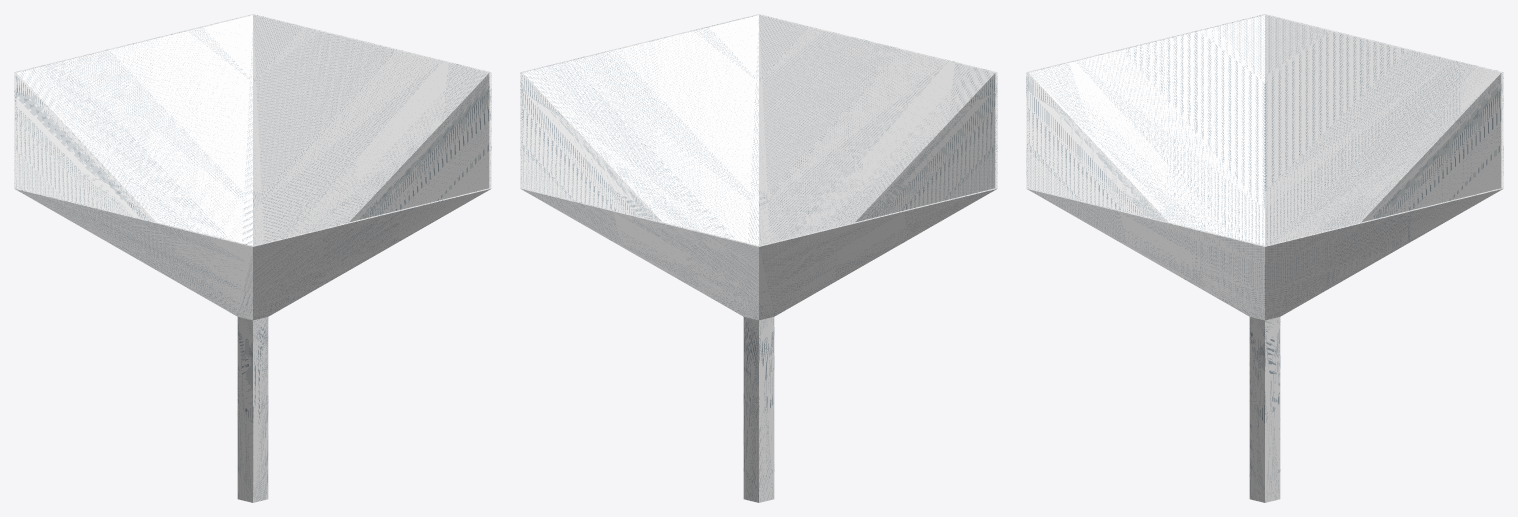
The model's file is Funnel.obj.
3 views of the same model, side by side, from view 1: azimuth 30°, elevation 25°; view 2: azimuth 150°, elevation 25°; view 3: azimuth 270°, elevation 25° (orthographic).
Visible parts, largest first — view 1: Mesh1 Model; view 2: Mesh1 Model; view 3: Mesh1 Model.
Boxes of the visible parts, <box> form: Mesh1 Model: <box>14,14,491,502</box>; Mesh1 Model: <box>520,14,997,502</box>; Mesh1 Model: <box>1026,14,1503,502</box>.
Size of the model in its own units: 0.0821 by 0.06 by 0.0711.
